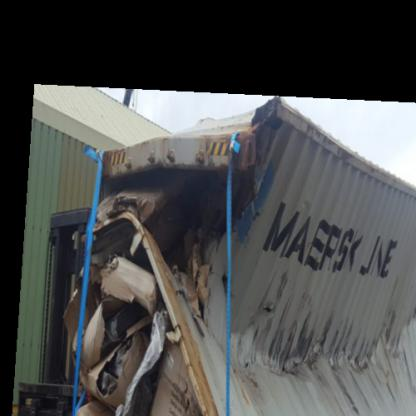Damage: (92, 104, 415, 415)
